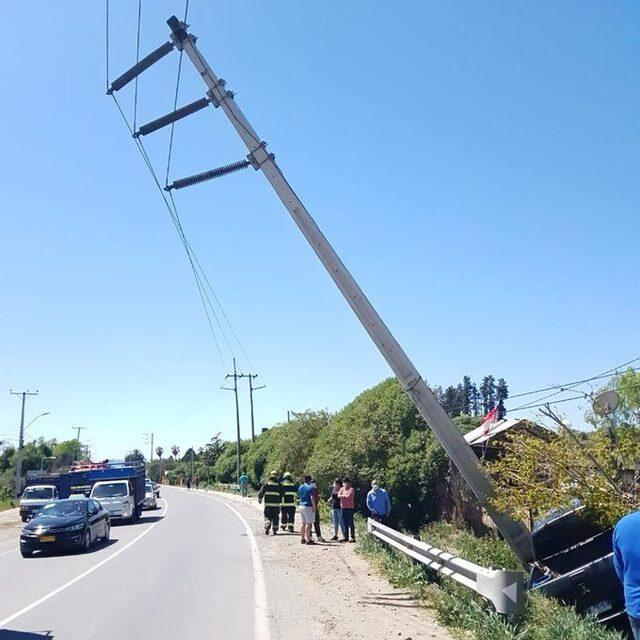Inclined Pole: (100, 7, 535, 569)
